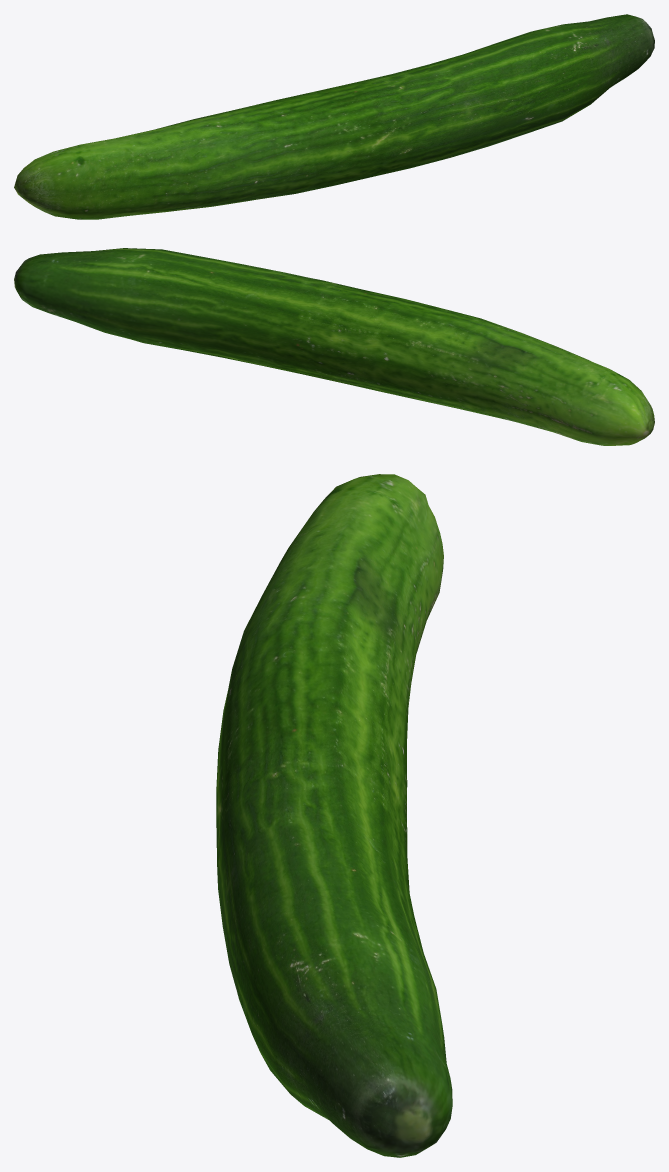
Rendered from Komkommer.glb.
3 renders of one model, top to bottom at view 1: azimuth 30°, elevation 25°; view 2: azimuth 150°, elevation 25°; view 3: azimuth 270°, elevation 25°, orthographic. The views are drawn at different scales.
Parts seen in each view (by area): view 1: Cucumber; view 2: Cucumber; view 3: Cucumber.
Boxes of the visible parts, <box> form: Cucumber: <box>14,14,654,219</box>; Cucumber: <box>14,248,654,445</box>; Cucumber: <box>216,474,452,1157</box>.
Size of the model in its own units: 0.7005 by 0.095 by 0.1134.
Materials: 1 (1 with a texture image).
